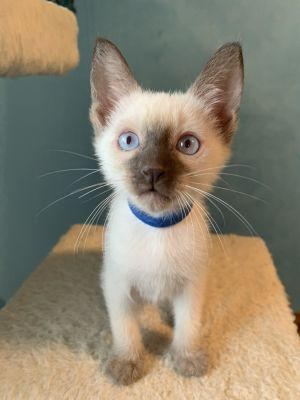siamese: (80, 35, 253, 229)
